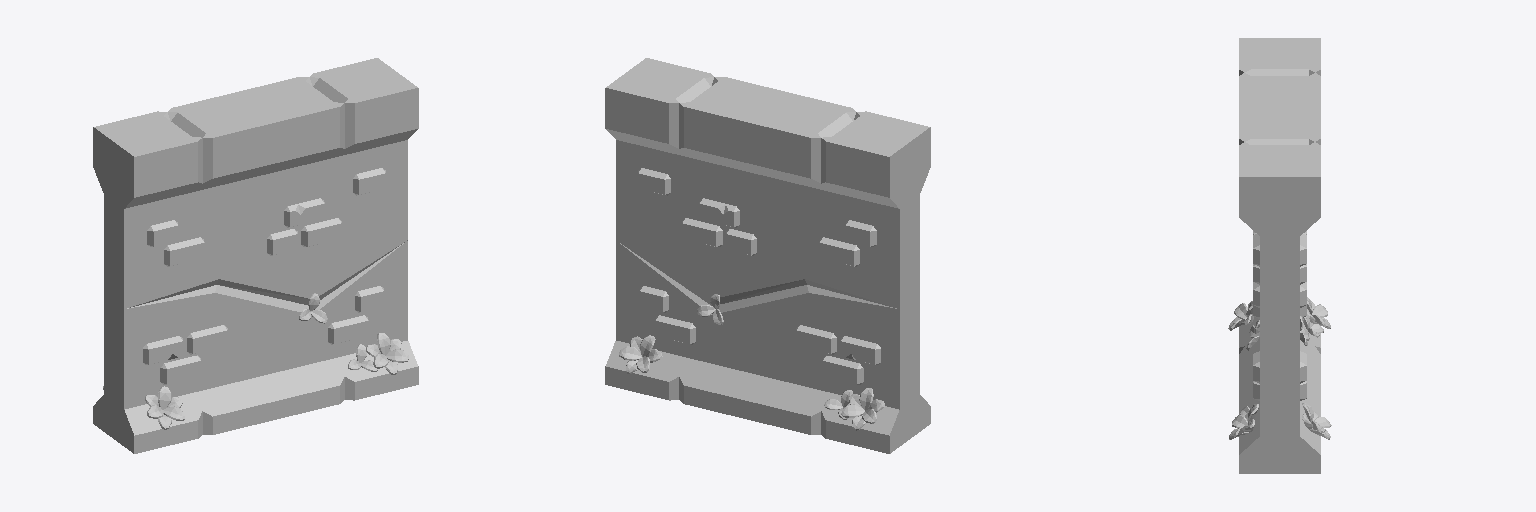
Rendered from wall_cracked.obj.
The picture shows the model from 3 angles: view 1: azimuth 30°, elevation 25°; view 2: azimuth 150°, elevation 25°; view 3: azimuth 270°, elevation 25°; orthographic projection.
Parts seen in each view (by area): view 1: wall_cracked; view 2: wall_cracked; view 3: wall_cracked.
Part boxes in pixels (x1,y1,x2,y2): wall_cracked: (93,58,418,453); wall_cracked: (605,58,930,453); wall_cracked: (1228,38,1331,473).
Bounding box in the file's own units: 4 × 4 × 1.26.